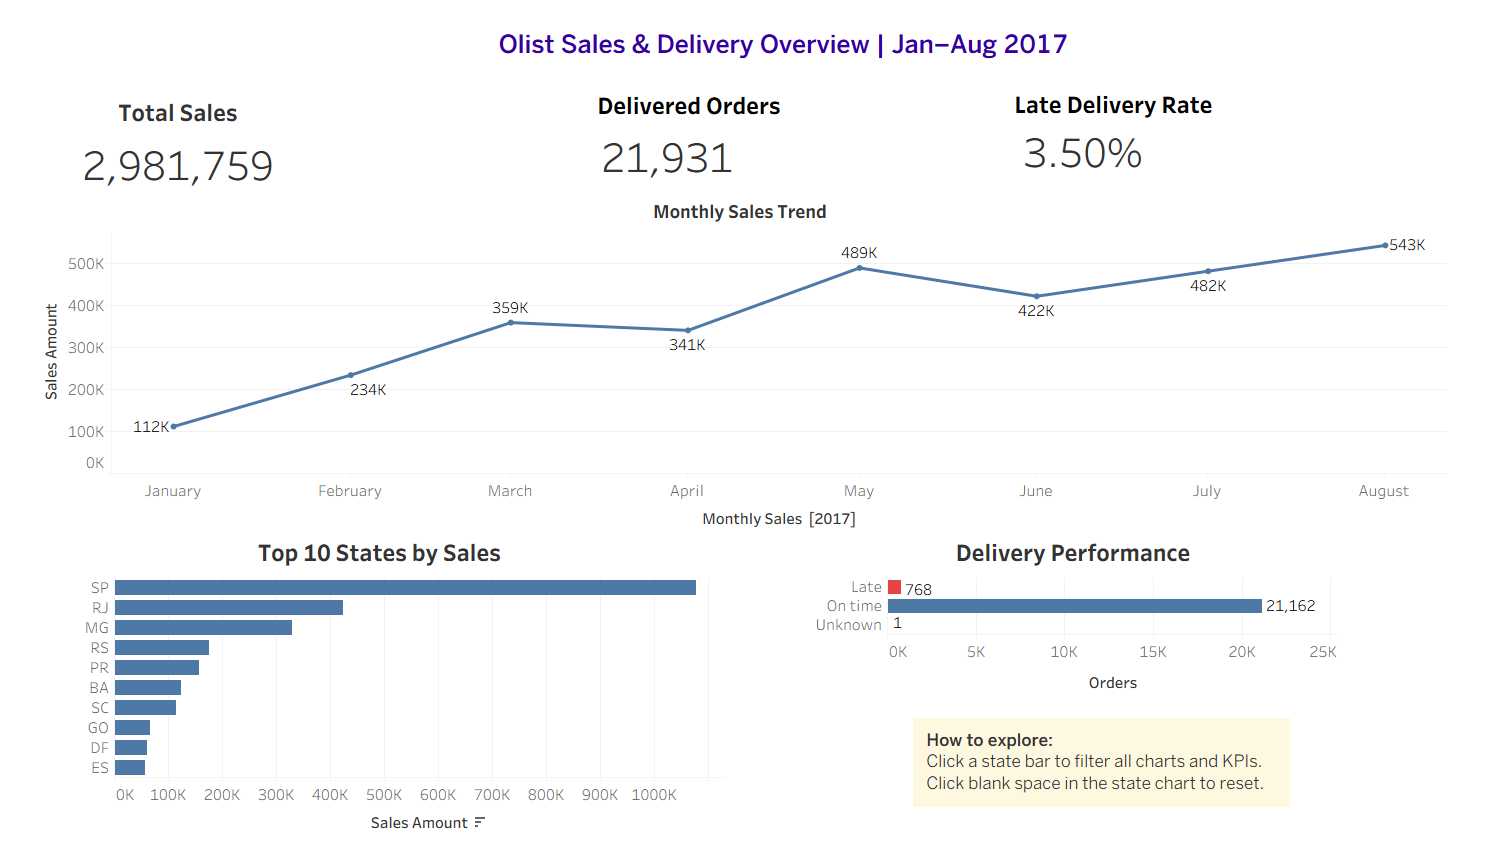

The dashboard page shown, as its layout file describes it:
{"tool":"tableau","page":{"name":"Dashboard 1","canvas":[1500,850],"ordinal":0},"visuals":[{"type":"title","box":[445,14,677,60]},{"type":"text","box":[1011,88,205,32]},{"type":"text","box":[594,89,190,32]},{"type":"worksheet","title":"Total Sales","mark":"Automatic","box":[78,90,380,142]},{"type":"worksheet","title":"Late Delivery Rate","mark":"Automatic","box":[1007,124,380,140]},{"type":"worksheet","title":"Delivered Orders","mark":"Automatic","box":[597,129,380,140]},{"type":"worksheet","title":"Monthly Sales Trend","mark":"Automatic","rows":["sales_amount"],"cols":["order_purchase_timestamp"],"box":[33,192,1414,344]},{"type":"worksheet","title":"Top 10 States by Sales","mark":"Automatic","rows":["customer_state"],"cols":["sales_amount"],"box":[34,530,691,315]},{"type":"worksheet","title":"Delivery Performance","mark":"Bar","rows":["delivery_status"],"cols":["order_id"],"box":[807,530,532,283]},{"type":"text","box":[913,718,377,89]}]}

Visuals, with their boxes in screenshot pixels (x1, y1, x2, y2), scaled from the page's 1500x850 canvas onto the 1500x850 screenshot:
title: {"x1": 445, "y1": 14, "x2": 1122, "y2": 74}
text: {"x1": 1011, "y1": 88, "x2": 1216, "y2": 120}
text: {"x1": 594, "y1": 89, "x2": 784, "y2": 121}
"Total Sales" worksheet: {"x1": 78, "y1": 90, "x2": 458, "y2": 232}
"Late Delivery Rate" worksheet: {"x1": 1007, "y1": 124, "x2": 1387, "y2": 264}
"Delivered Orders" worksheet: {"x1": 597, "y1": 129, "x2": 977, "y2": 269}
"Monthly Sales Trend" worksheet: {"x1": 33, "y1": 192, "x2": 1447, "y2": 536}
"Top 10 States by Sales" worksheet: {"x1": 34, "y1": 530, "x2": 725, "y2": 845}
"Delivery Performance" worksheet (Bar marks): {"x1": 807, "y1": 530, "x2": 1339, "y2": 813}
text: {"x1": 913, "y1": 718, "x2": 1290, "y2": 807}
